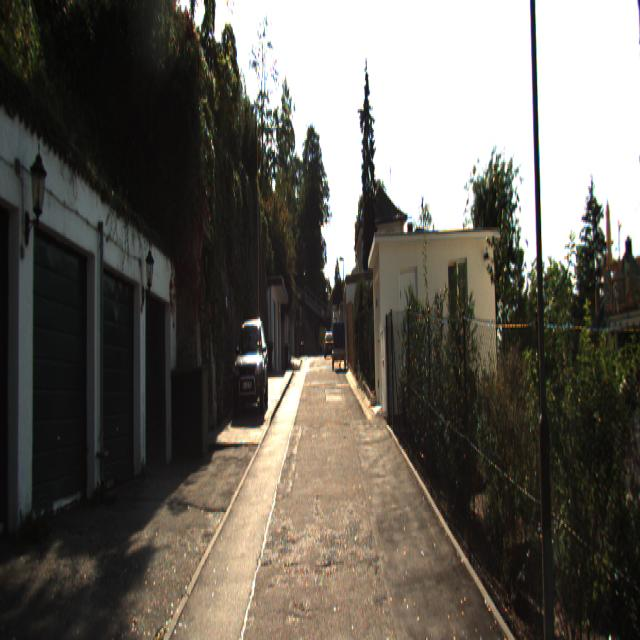Car: (232, 322, 270, 416)
DontCare: (322, 327, 333, 358)
Misc: (332, 320, 347, 372)
